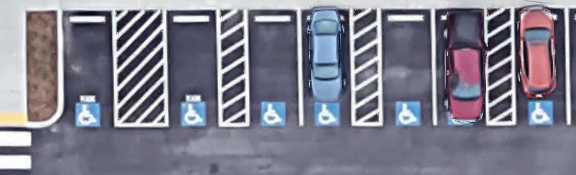Occupied: (513, 7, 569, 124), (298, 11, 354, 125), (433, 10, 487, 126)
Vacant: (59, 11, 117, 126), (164, 9, 221, 125), (379, 10, 435, 124), (246, 10, 301, 125)
